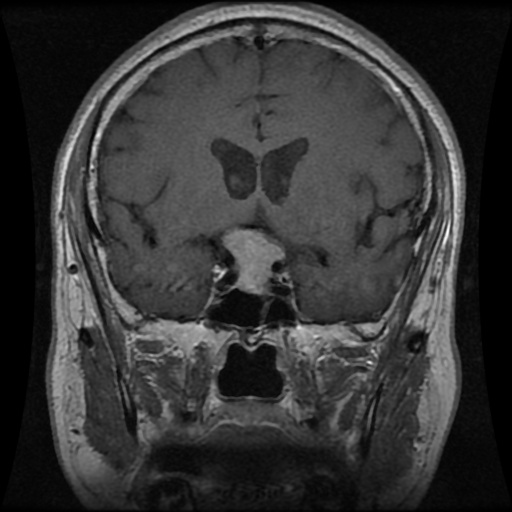pituitary: (223, 230, 283, 293)
